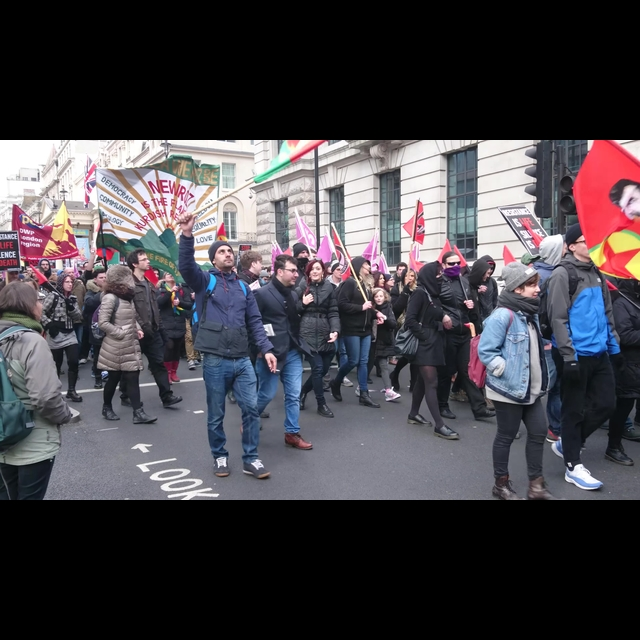PKK: (570, 141, 640, 279)
